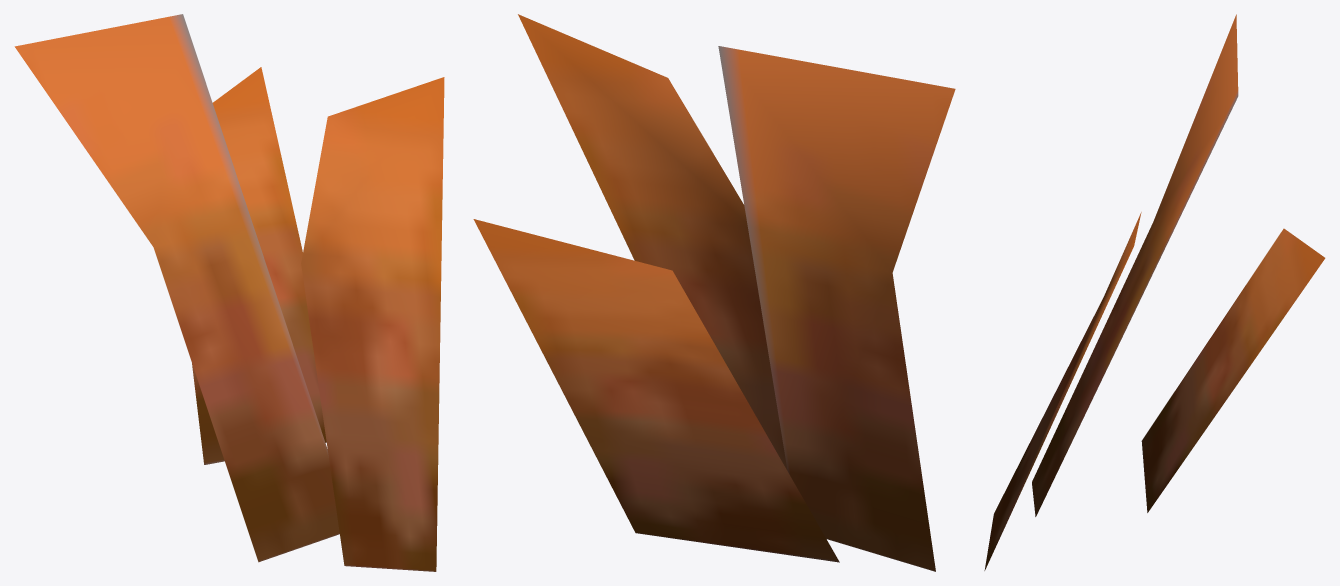
Rendered from fg_grassD.dae.
3 views of the same model, side by side, from view 1: azimuth 30°, elevation 25°; view 2: azimuth 150°, elevation 25°; view 3: azimuth 270°, elevation 25° (orthographic). The views are drawn at different scales.
Visible parts, largest first — view 1: fg_grassD; view 2: fg_grassD; view 3: fg_grassD.
Boxes of the visible parts, x1=… form: fg_grassD: x1=14, y1=14, x2=444, y2=571; fg_grassD: x1=473, y1=14, x2=955, y2=571; fg_grassD: x1=984, y1=14, x2=1325, y2=570.
Bounding box in the file's own units: 14.73 × 18.52 × 13.13.
1 material, 1 textured.
